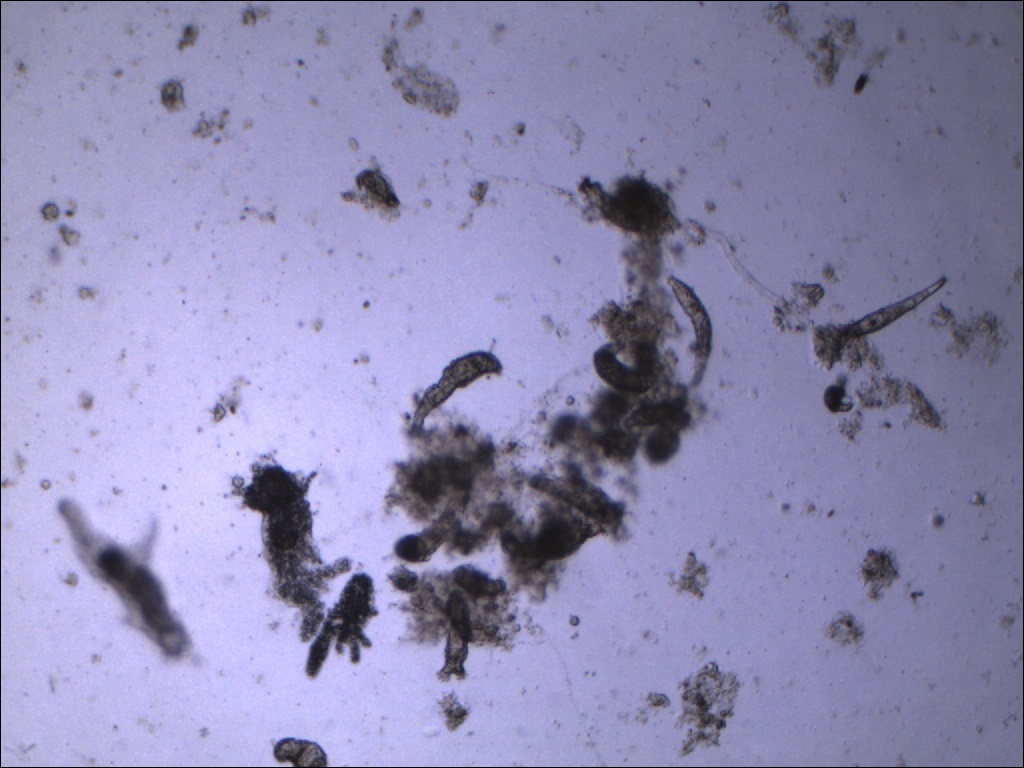amoeba: (234, 454, 354, 647), (302, 567, 385, 680)
